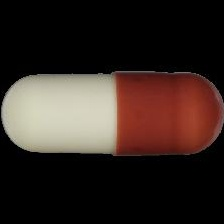0145-0090: (0, 0, 224, 224)
